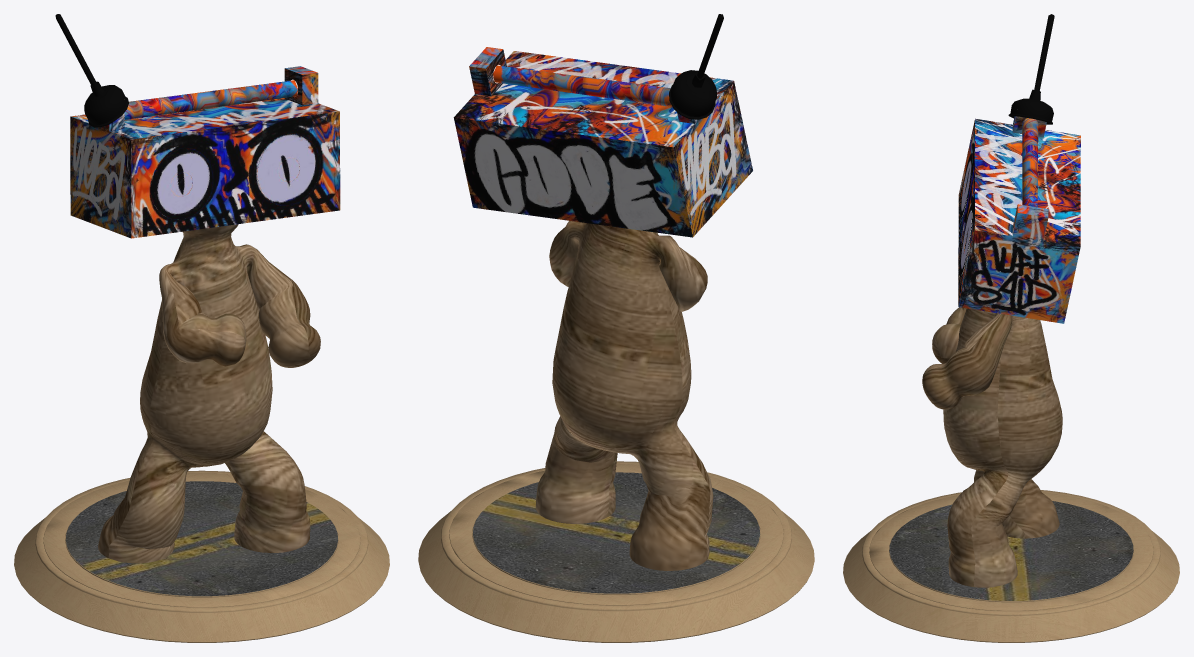
The picture shows the model from 3 angles, left to right: view 1: azimuth 30°, elevation 25°; view 2: azimuth 150°, elevation 25°; view 3: azimuth 270°, elevation 25°; orthographic projection. The views are drawn at different scales.
Bounding box in the file's own units: 1.45 × 2.39 × 1.45.
5 materials, 4 textured.
